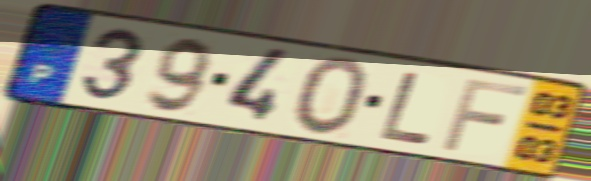3: (76, 26, 148, 106)
4: (220, 44, 288, 130)
9: (147, 35, 216, 115)
F: (438, 76, 531, 154)
L: (376, 69, 437, 148)
O: (290, 54, 372, 138)
